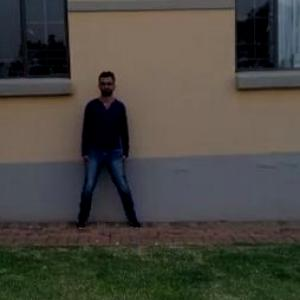follow: (79, 68, 128, 232)
